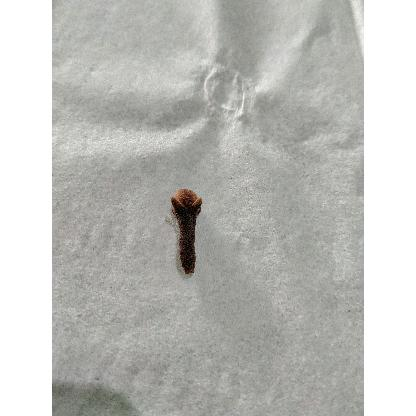baik: (171, 189, 202, 276)
